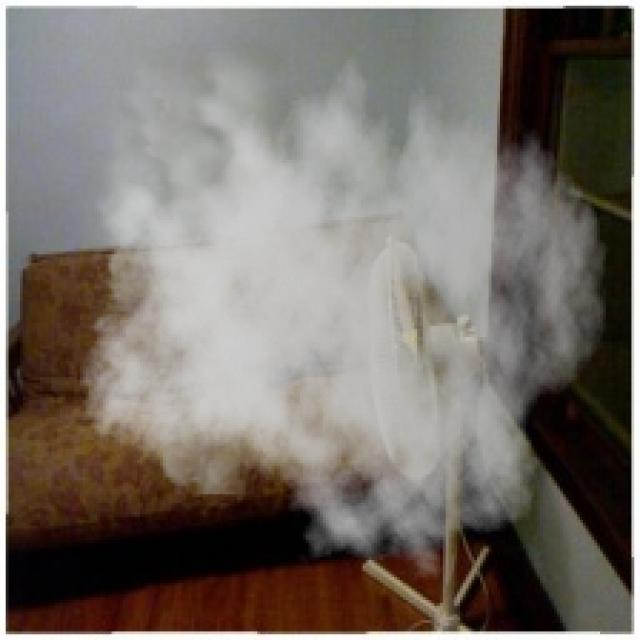smoke: (63, 20, 608, 580)
